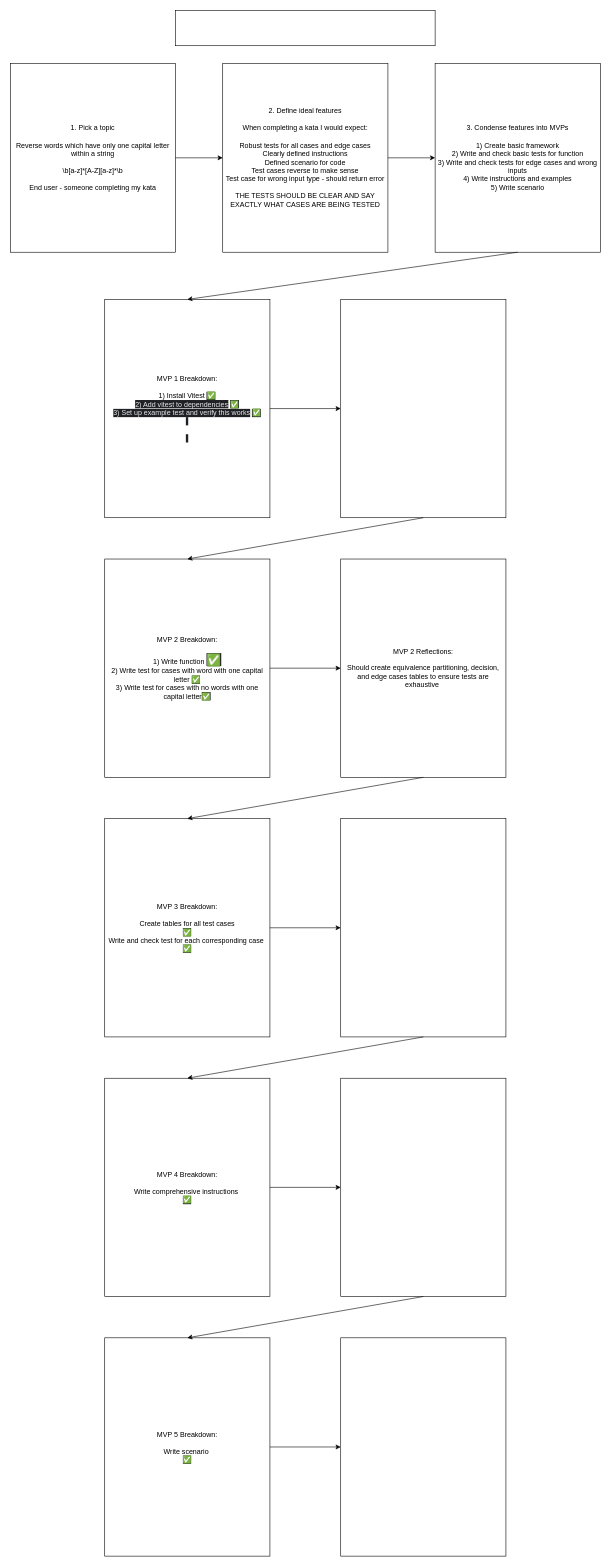
This 611x1566 diagram has some shape labels left out. Each missing label, with the centre of its shape:
MVP 1 Reflections: Need to write solution to check my tests: (423,408)
MVP 3 Reflections: Move testing user function throws error to extension goal: (423,927)
MVP 4 Reflections:: (423,1187)
MVP 5 Reflections:: (423,1446)
TASK: To create my own kata: (305,28)
